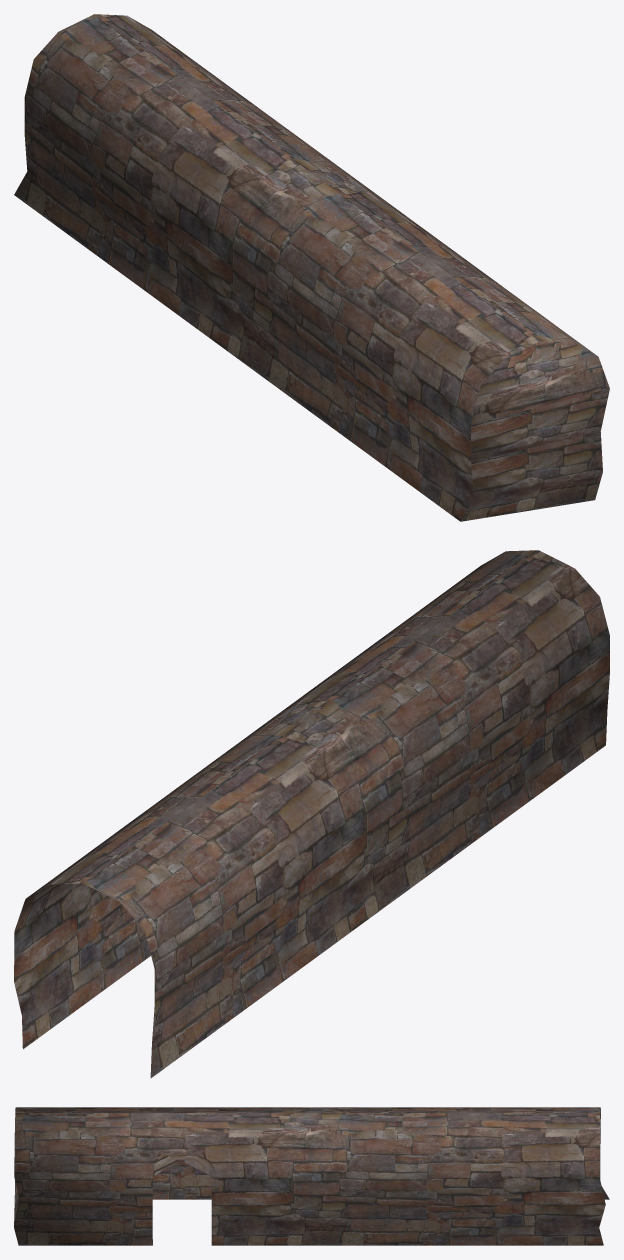
File: Tunnel_1.fbx
3 views of the same model, one above another, from view 1: azimuth 30°, elevation 25°; view 2: azimuth 150°, elevation 25°; view 3: azimuth 270°, elevation 25° (orthographic). The views are drawn at different scales.
Parts seen in each view (by area): view 1: Tunnel_1; view 2: Tunnel_1; view 3: Tunnel_1.
Boxes of the visible parts, x1,y1,x2,y2 form: Tunnel_1: (14,14,609,521); Tunnel_1: (14,550,609,1078); Tunnel_1: (14,1107,609,1245).
Size of the model in its own units: 3.64 by 4.3 by 20.26.
